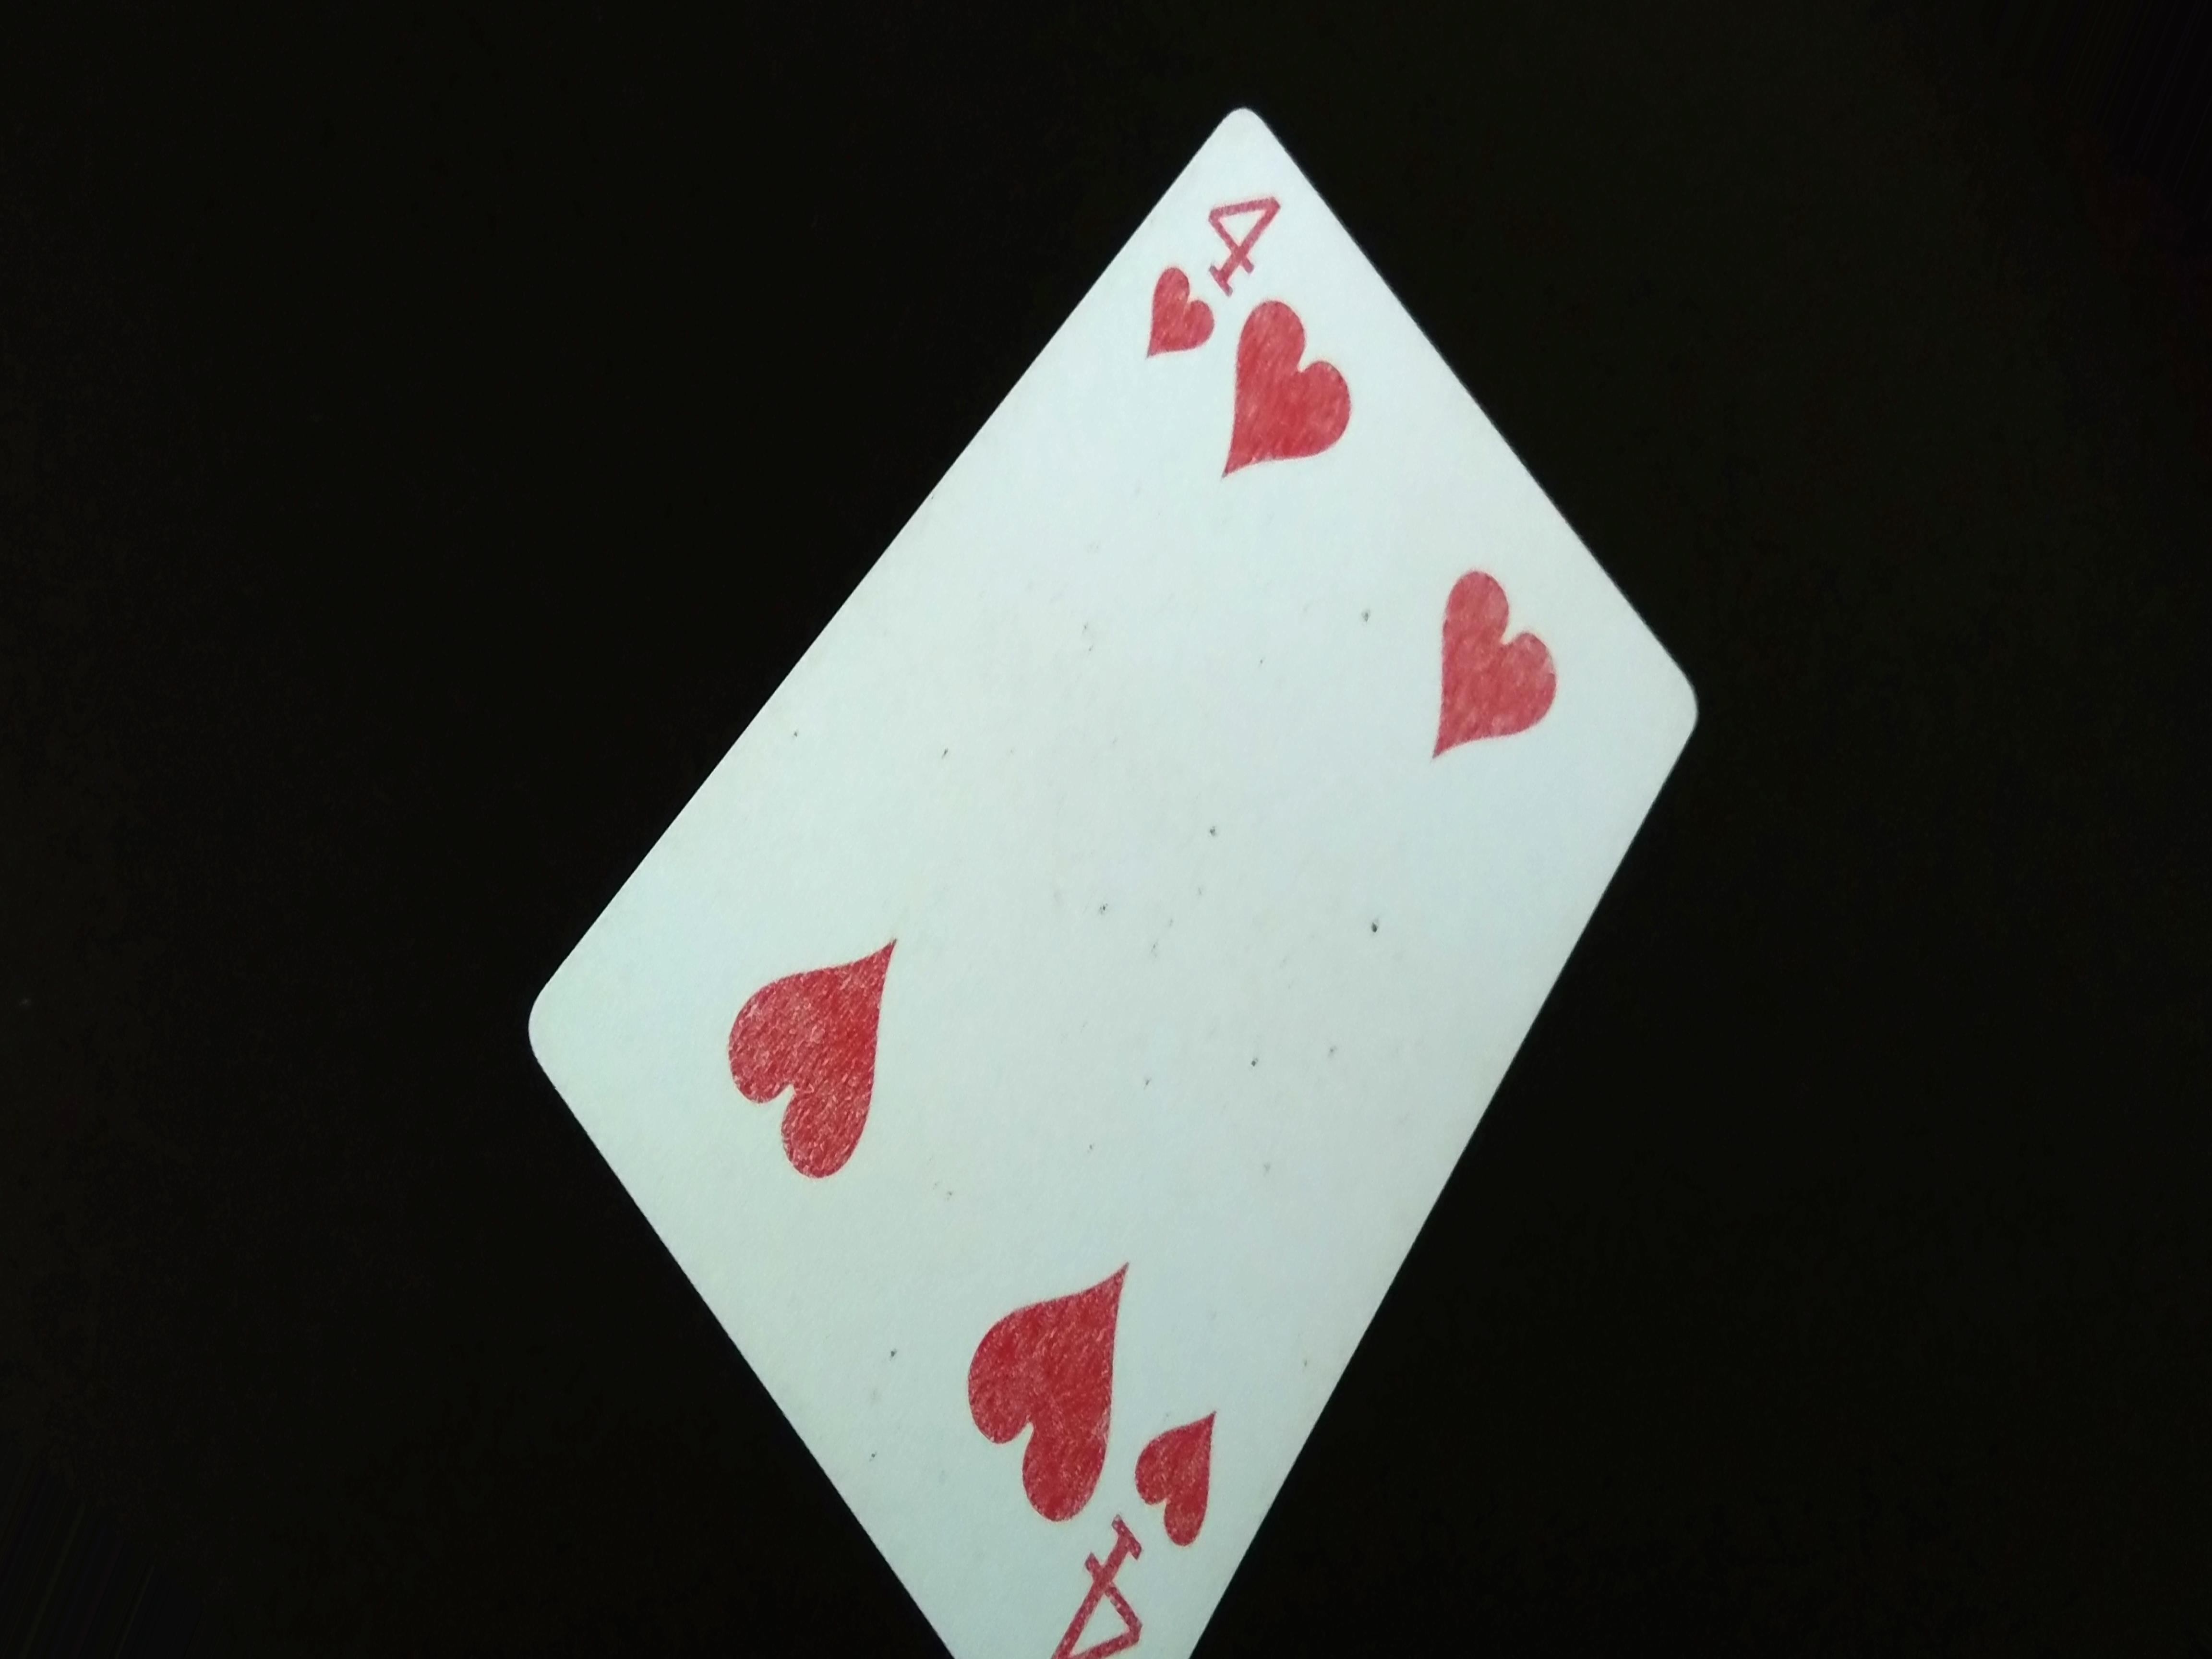4H: (1123, 159, 1306, 378)
